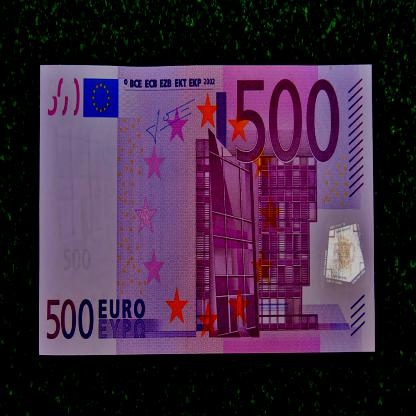euro_banknote: (42, 67, 375, 356)
